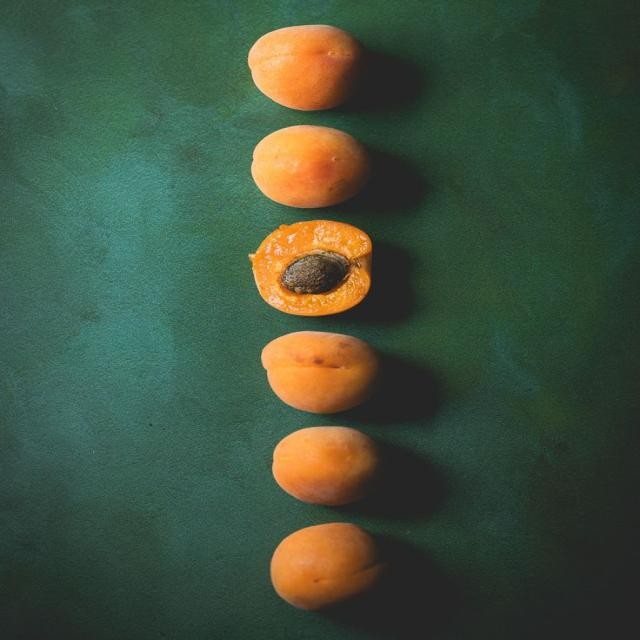kayisi: (250, 221, 373, 319), (248, 26, 377, 112), (250, 125, 374, 211), (270, 525, 390, 613), (261, 333, 384, 416), (272, 427, 397, 508)
kayisicekirdegi: (279, 256, 350, 291)
